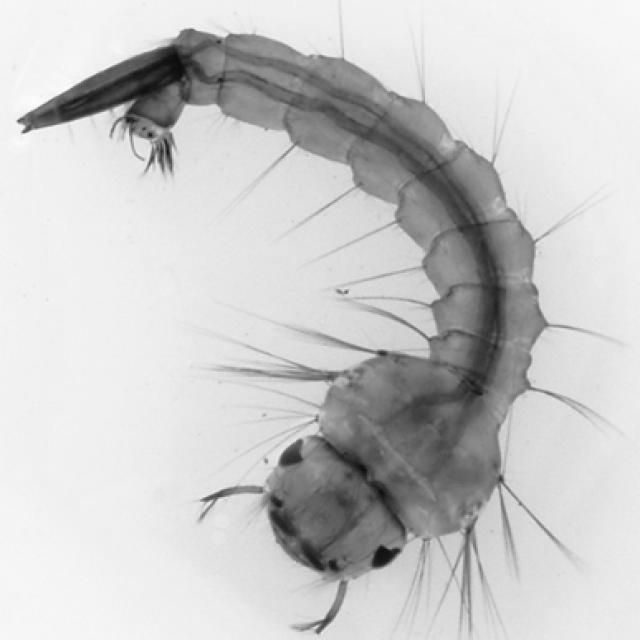larvas: (35, 34, 545, 574)
